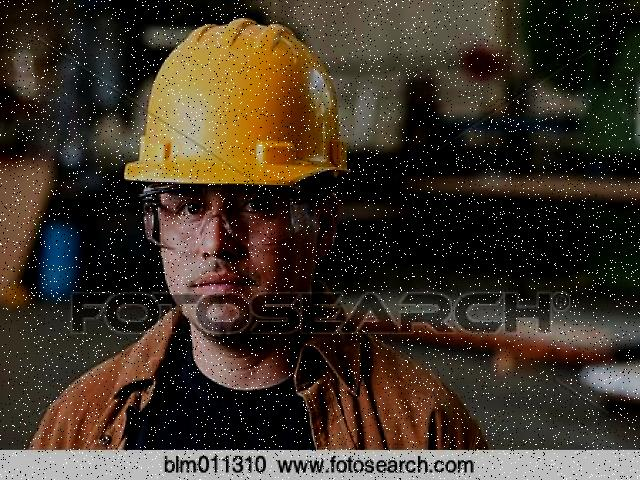Helmet: (117, 11, 356, 203)
